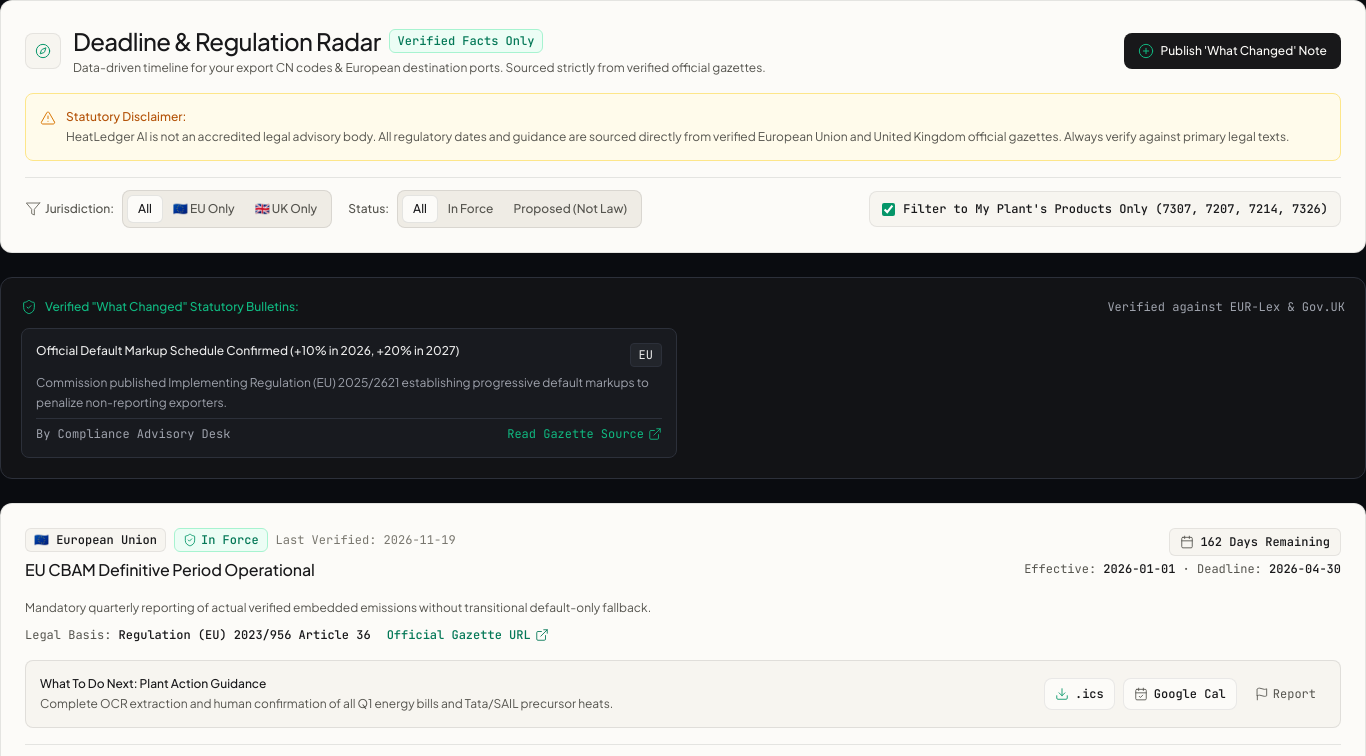
Test: Prompt P7: Deadline and Regulation Radar › toggles plant relevance filter to show/hide non-plant products
Expected: the heading "EU CBAM Definitive Period Operational" is shown, [25,559,315,580]
Toggle off plant filter: all regulations visible including proposed downstream
Click the text "Filter to My Plant's Products Only (7307, 7207, 7214, 7326)".
click(1116, 209)  # box [903,200,1328,218]
(page scrolled)
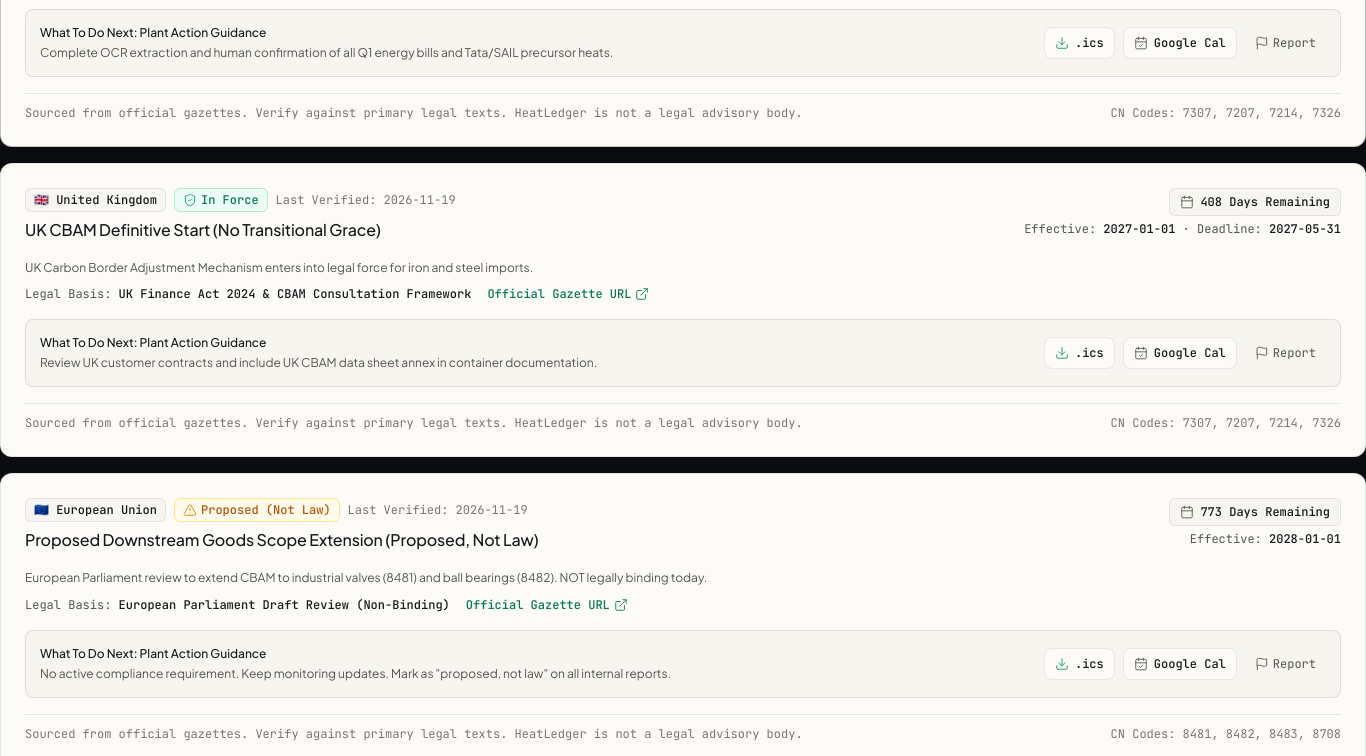
Expected: the heading "Proposed, Not Law" is shown, [25,529,539,550]
